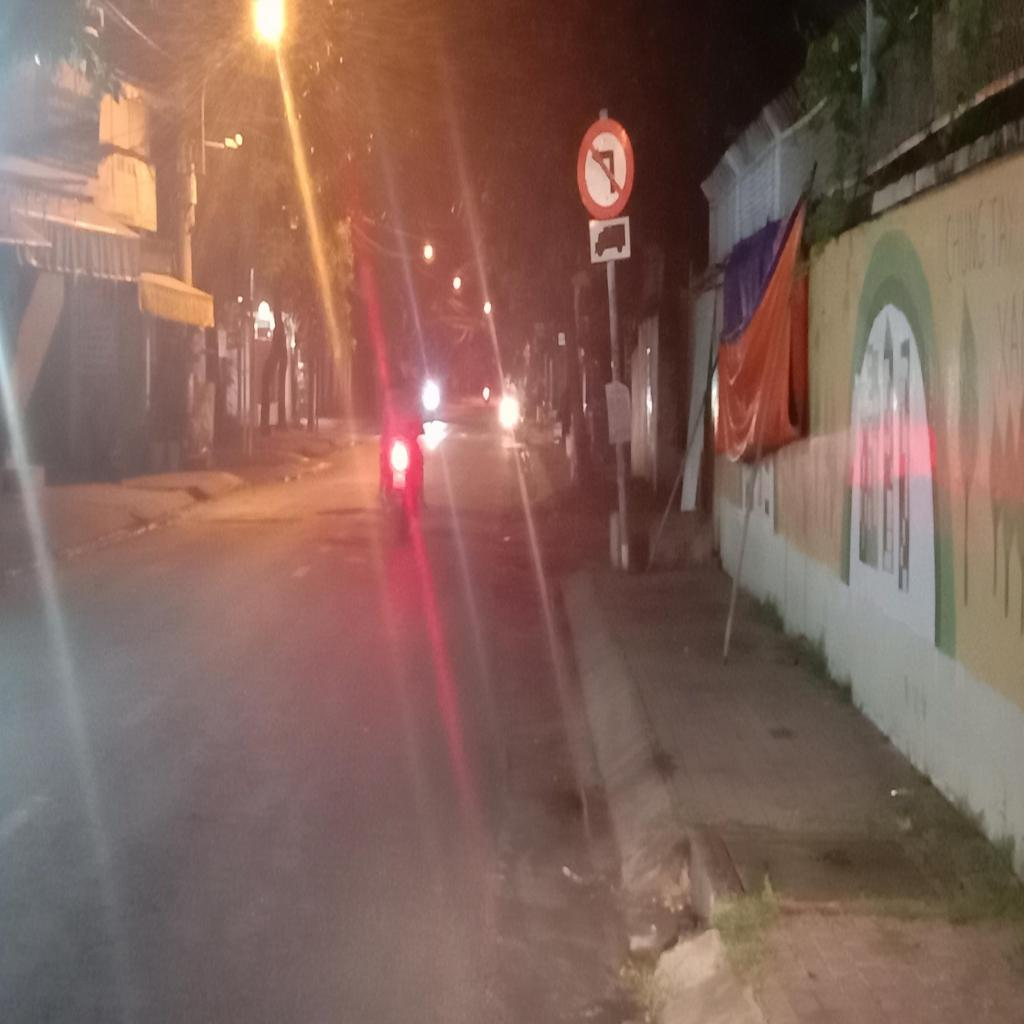cam_re_trai: (578, 118, 634, 222)
khac: (588, 217, 632, 264)
